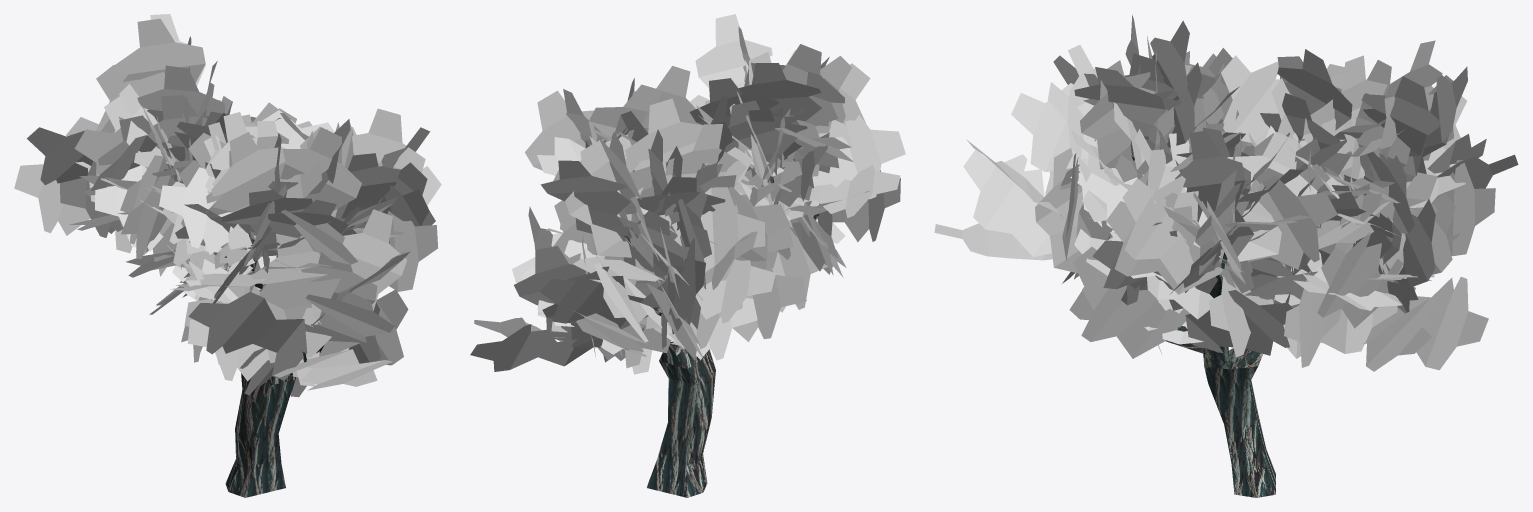
Rendered from drvo.fbx.
The picture shows the model from 3 angles, left to right: view 1: azimuth 30°, elevation 25°; view 2: azimuth 150°, elevation 25°; view 3: azimuth 270°, elevation 25°; orthographic projection. The views are drawn at different scales.
Visible parts, largest first — view 1: Cube, Cube|granje|Dupli|164, Cube|granje|Dupli|166, Cube|granje|Dupli|120, Cube|granje|Dupli|155, Cube|granje|Dupli|140, Cube|granje|Dupli|162, Cube|granje|Dupli|158, Cube|granje|Dupli|137, Cube|granje|Dupli|74, Cube|granje|Dupli|165, Cube|granje|Dupli|67 (+44 smaller); view 2: Cube, Cube|granje|Dupli|152, Cube|granje|Dupli|132, Cube|granje|Dupli|62, Cube|granje|Dupli|154, Cube|granje|Dupli|27, Cube|granje|Dupli|70, Cube|granje|Dupli|144, Cube|granje|Dupli|50, Cube|granje|Dupli|153, Cube|granje|Dupli|124, Cube|granje|Dupli|181 (+50 smaller); view 3: Cube, Cube|granje|Dupli|158, Cube|granje|Dupli|89, Cube|granje|Dupli|145, Cube|granje|Dupli|91, Cube|granje|Dupli|26, Cube|granje|Dupli|27, Cube|granje|Dupli|56, Cube|granje|Dupli|97, Cube|granje|Dupli|147, Cube|granje|Dupli|99, Cube|granje|Dupli|153 (+50 smaller).
Part boxes in pixels (x1,y1,x2,y2): Cube: (225, 226, 324, 497); Cube|granje|Dupli|164: (188, 291, 307, 380); Cube|granje|Dupli|166: (251, 233, 340, 363); Cube|granje|Dupli|120: (211, 132, 285, 266); Cube|granje|Dupli|155: (113, 18, 205, 83); Cube|granje|Dupli|140: (280, 127, 361, 210); Cube|granje|Dupli|162: (302, 209, 407, 326); Cube|granje|Dupli|158: (305, 292, 394, 342); Cube|granje|Dupli|137: (159, 167, 276, 268); Cube|granje|Dupli|74: (14, 164, 132, 253); Cube|granje|Dupli|165: (274, 349, 392, 390); Cube|granje|Dupli|67: (27, 127, 114, 233); Cube: (600, 173, 819, 497); Cube|granje|Dupli|152: (540, 160, 632, 241); Cube|granje|Dupli|132: (784, 114, 905, 219); Cube|granje|Dupli|62: (540, 266, 668, 329); Cube|granje|Dupli|154: (635, 187, 765, 280); Cube|granje|Dupli|27: (470, 324, 592, 371); Cube|granje|Dupli|70: (646, 259, 775, 328); Cube|granje|Dupli|144: (695, 14, 772, 88); Cube|granje|Dupli|50: (625, 98, 707, 183); Cube|granje|Dupli|153: (565, 140, 643, 257); Cube|granje|Dupli|124: (778, 164, 900, 217); Cube|granje|Dupli|181: (738, 63, 821, 121); Cube: (1131, 153, 1275, 497); Cube|granje|Dupli|158: (963, 149, 1051, 257); Cube|granje|Dupli|89: (1122, 176, 1200, 283); Cube|granje|Dupli|145: (1081, 271, 1177, 358); Cube|granje|Dupli|91: (1228, 176, 1337, 293); Cube|granje|Dupli|26: (1317, 232, 1403, 328); Cube|granje|Dupli|27: (1409, 277, 1488, 370); Cube|granje|Dupli|56: (1221, 55, 1280, 145); Cube|granje|Dupli|97: (1193, 131, 1317, 261); Cube|granje|Dupli|147: (1185, 290, 1292, 355); Cube|granje|Dupli|99: (1175, 130, 1254, 267); Cube|granje|Dupli|153: (1361, 76, 1448, 181).
Size of the model in its own units: 2378 by 1527 by 1944.
2 materials, 1 textured.
